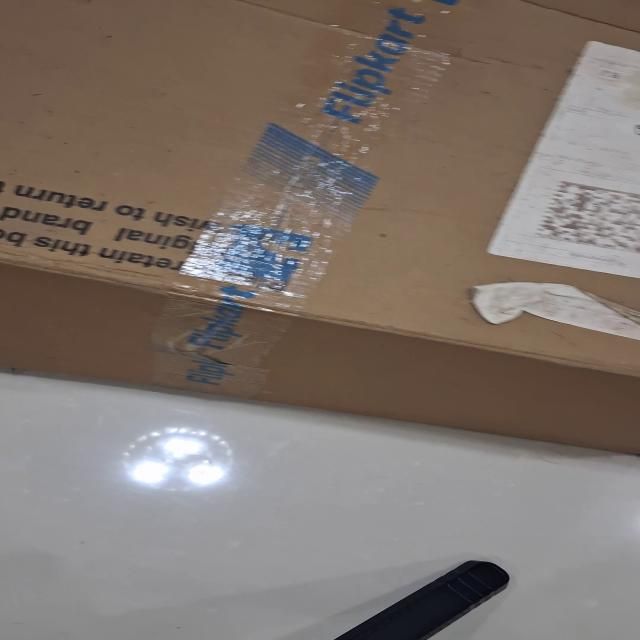paper: (483, 40, 639, 278)
